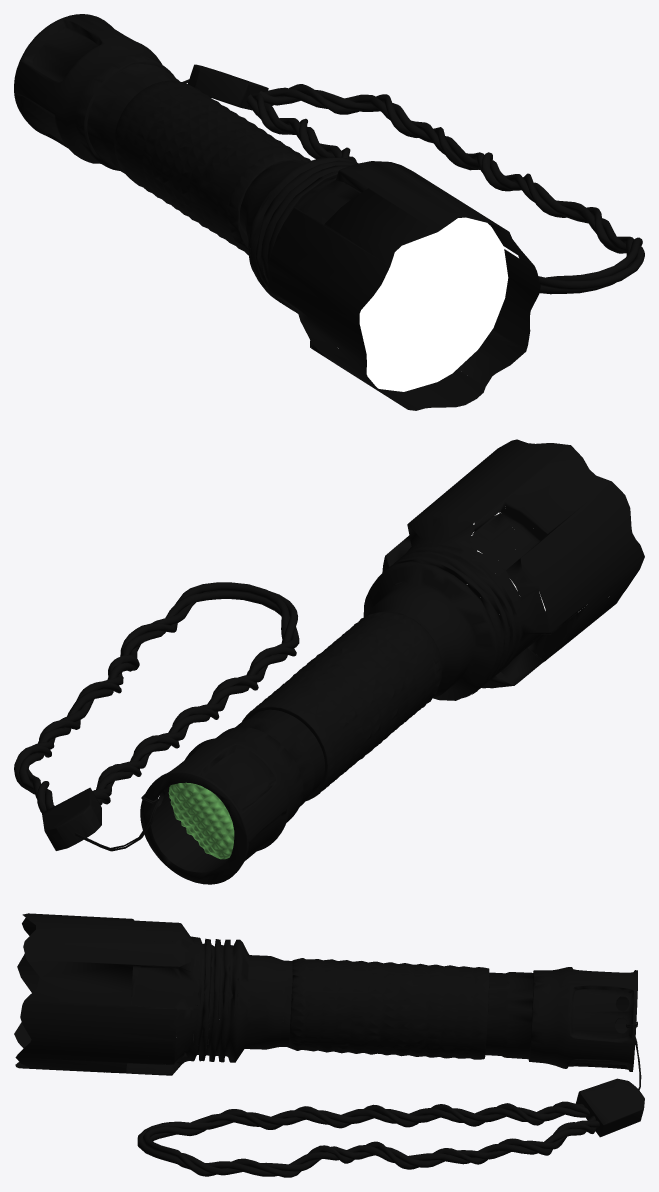
Rendered from flashlight.glb.
3 renders of one model, top to bottom at view 1: azimuth 30°, elevation 25°; view 2: azimuth 150°, elevation 25°; view 3: azimuth 270°, elevation 25°, orthographic. The views are drawn at different scales.
Parts seen in each view (by area): view 1: front_2, Plane.001_9, middle_3, back_4, Circle_6, fasteners_7; view 2: front_2, back_4, middle_3, Circle_6, off on_5, fasteners_7; view 3: front_2, middle_3, back_4, Circle_6, fasteners_7.
Part boxes in pixels (bbox=[...]): front_2: bbox=[240, 157, 540, 410]; Plane.001_9: bbox=[338, 217, 508, 391]; middle_3: bbox=[114, 80, 310, 254]; back_4: bbox=[14, 14, 179, 173]; Circle_6: bbox=[246, 84, 644, 294]; fasteners_7: bbox=[188, 64, 268, 110]; front_2: bbox=[363, 439, 644, 700]; back_4: bbox=[140, 709, 324, 884]; middle_3: bbox=[242, 611, 442, 801]; Circle_6: bbox=[14, 582, 299, 812]; off on_5: bbox=[168, 782, 234, 859]; fasteners_7: bbox=[42, 787, 101, 850]; front_2: bbox=[14, 913, 292, 1075]; middle_3: bbox=[288, 958, 489, 1059]; back_4: bbox=[485, 967, 637, 1071]; Circle_6: bbox=[137, 1101, 599, 1177]; fasteners_7: bbox=[576, 1078, 644, 1137].
Size of the model in its own units: 3.33 by 1.56 by 5.85.
